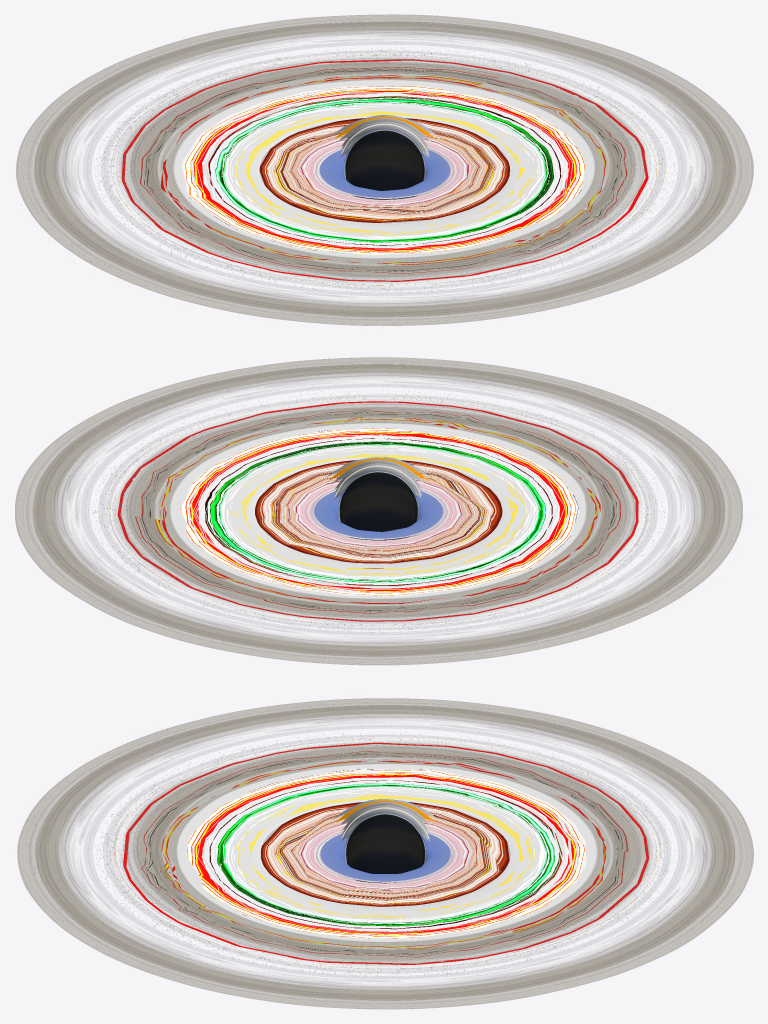
The model's file is black_hole.glb.
3 renders of one model, top to bottom at view 1: azimuth 30°, elevation 25°; view 2: azimuth 150°, elevation 25°; view 3: azimuth 270°, elevation 25°, orthographic.
Visible parts, largest first — view 1: black hole_ring_ring_0, black hole_black hole blackoutside_0 (×3), black hole_black hole light3_0, black hole_black hole light2_0, black hole_black hole center_0, black hole_black hole light1_0; view 2: black hole_ring_ring_0, black hole_black hole blackoutside_0 (×3), black hole_black hole light3_0, black hole_black hole light2_0, black hole_black hole center_0, black hole_black hole light1_0; view 3: black hole_ring_ring_0, black hole_black hole blackoutside_0 (×3), black hole_black hole light3_0, black hole_black hole light2_0, black hole_black hole center_0, black hole_black hole light1_0.
Boxes of the visible parts, x1=… form: black hole_ring_ring_0: x1=16, y1=14, x2=753, y2=325; black hole_black hole blackoutside_0 (×3): x1=144, y1=69, x2=625, y2=271; black hole_black hole light3_0: x1=113, y1=55, x2=656, y2=285; black hole_black hole light2_0: x1=259, y1=118, x2=510, y2=223; black hole_black hole center_0: x1=345, y1=130, x2=424, y2=207; black hole_black hole light1_0: x1=319, y1=115, x2=450, y2=206; black hole_ring_ring_0: x1=15, y1=357, x2=742, y2=665; black hole_black hole blackoutside_0 (×3): x1=140, y1=411, x2=616, y2=611; black hole_black hole light3_0: x1=110, y1=398, x2=647, y2=624; black hole_black hole light2_0: x1=255, y1=460, x2=502, y2=563; black hole_black hole center_0: x1=339, y1=472, x2=417, y2=540; black hole_black hole light1_0: x1=314, y1=457, x2=443, y2=538; black hole_ring_ring_0: x1=17, y1=698, x2=753, y2=1009; black hole_black hole blackoutside_0 (×3): x1=145, y1=752, x2=625, y2=955; black hole_black hole light3_0: x1=114, y1=739, x2=656, y2=968; black hole_black hole light2_0: x1=260, y1=802, x2=510, y2=906; black hole_black hole center_0: x1=346, y1=814, x2=424, y2=890; black hole_black hole light1_0: x1=320, y1=799, x2=450, y2=881.
Size of what is drawn, in the model's own units: 2.03 by 0.2847 by 2.01.
7 materials, 6 textured.
